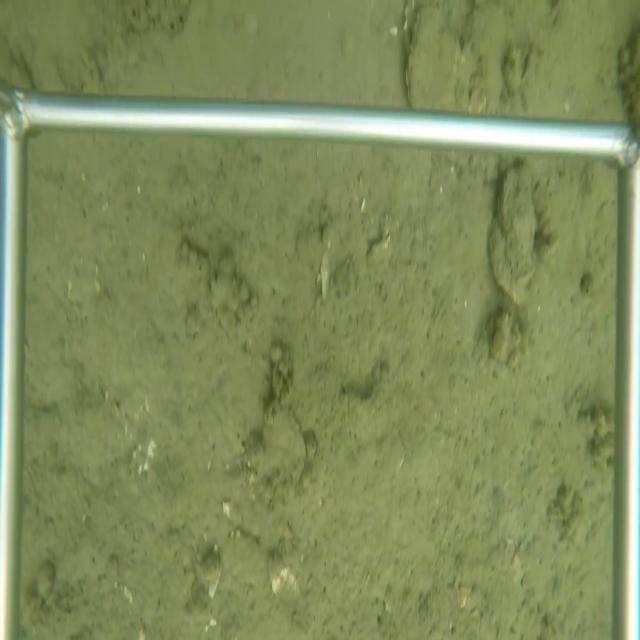Oyster-Closed: (404, 2, 481, 113), (486, 161, 540, 313)
Oyster-Indeterminate: (242, 404, 309, 512)
Oyster-Open: (519, 43, 538, 90)
